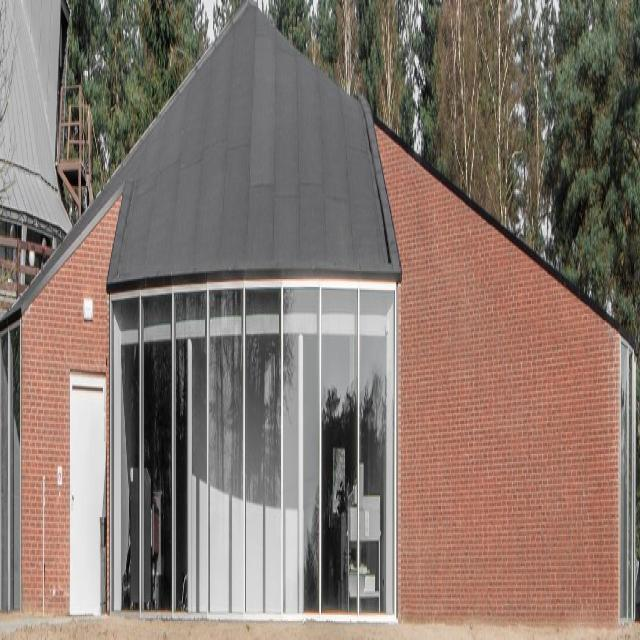door: (68, 374, 108, 625)
plant: (412, 0, 640, 352), (65, 0, 214, 196), (259, 1, 416, 141)
wall: (19, 0, 636, 625)
windows: (110, 288, 398, 625)
